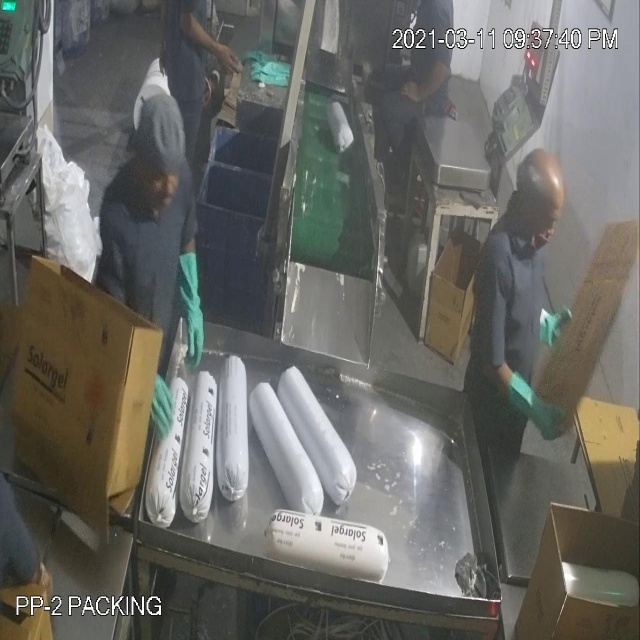Guantes: (511, 355, 561, 457), (176, 244, 210, 380)
Sin_guantes: (176, 10, 248, 84), (401, 60, 457, 108)
